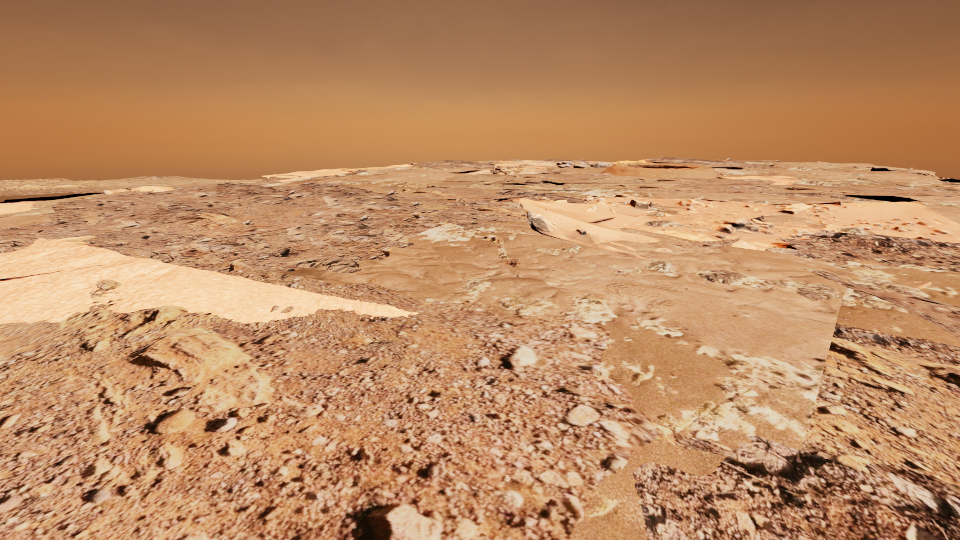bedrock: (0, 176, 526, 272), (60, 303, 274, 489), (632, 436, 959, 539), (821, 324, 959, 413), (803, 269, 959, 337), (765, 230, 959, 271), (492, 181, 698, 203), (411, 159, 588, 179), (644, 157, 787, 169), (484, 236, 521, 266), (754, 186, 873, 194), (762, 193, 872, 201), (0, 182, 97, 191), (308, 169, 366, 179), (89, 280, 121, 298), (871, 166, 934, 175), (614, 178, 713, 183), (861, 178, 914, 186), (930, 176, 959, 190), (121, 180, 193, 184), (390, 182, 430, 187), (537, 167, 568, 173), (374, 166, 399, 170), (281, 306, 293, 312), (713, 167, 730, 170), (270, 306, 279, 311)
rocks: (556, 161, 586, 167), (588, 161, 615, 167)
sand: (280, 220, 959, 449), (0, 236, 417, 323), (569, 439, 727, 539), (254, 164, 535, 188), (720, 162, 950, 188), (548, 187, 864, 203), (843, 195, 959, 223), (0, 193, 102, 205), (0, 210, 54, 220), (646, 204, 686, 216), (546, 165, 606, 173), (764, 215, 817, 224), (838, 227, 886, 235), (623, 183, 686, 188), (367, 340, 397, 350), (644, 221, 693, 227), (599, 176, 658, 180), (0, 222, 33, 227), (519, 166, 546, 170), (567, 183, 618, 185), (30, 206, 49, 210), (494, 163, 515, 166)
soil: (0, 265, 735, 539), (801, 382, 959, 485), (514, 162, 959, 195), (599, 194, 804, 248), (767, 201, 959, 242), (142, 203, 353, 236), (0, 176, 260, 195), (530, 216, 645, 258), (378, 184, 536, 205), (31, 197, 78, 207), (0, 208, 51, 216), (446, 178, 557, 181), (201, 260, 231, 271), (469, 216, 526, 220), (0, 219, 53, 223), (505, 183, 545, 188), (154, 245, 186, 251), (477, 159, 522, 162), (419, 210, 445, 215), (916, 282, 931, 290), (865, 171, 921, 173), (481, 174, 512, 176), (507, 208, 526, 211), (539, 192, 582, 193)
